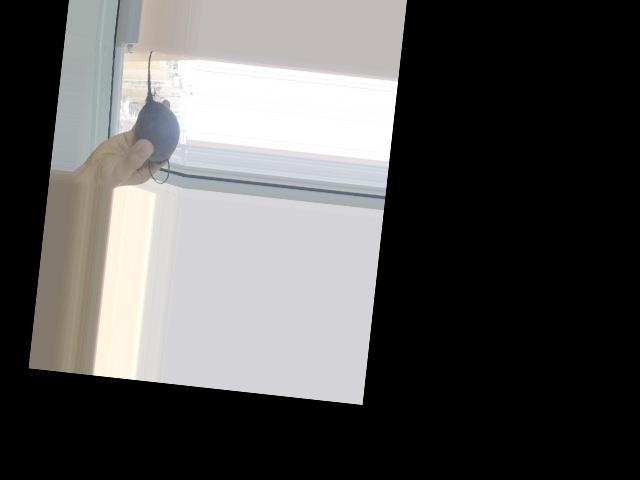beet: (129, 49, 188, 184)
